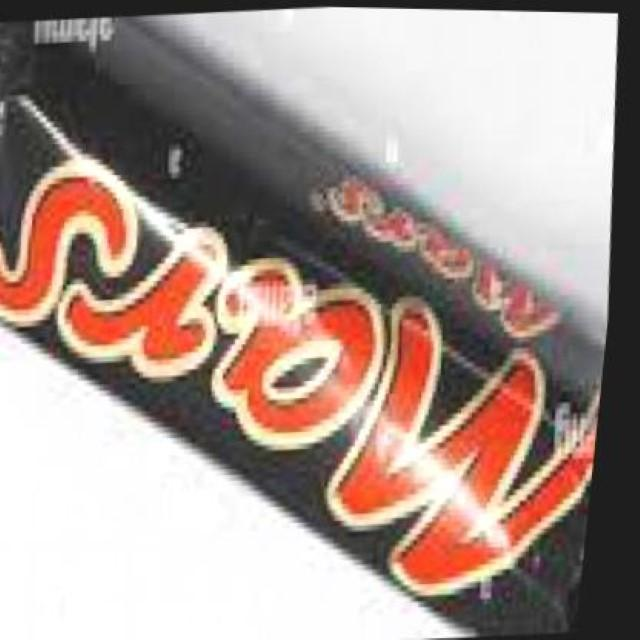mars_chocolate: (10, 41, 620, 616)
